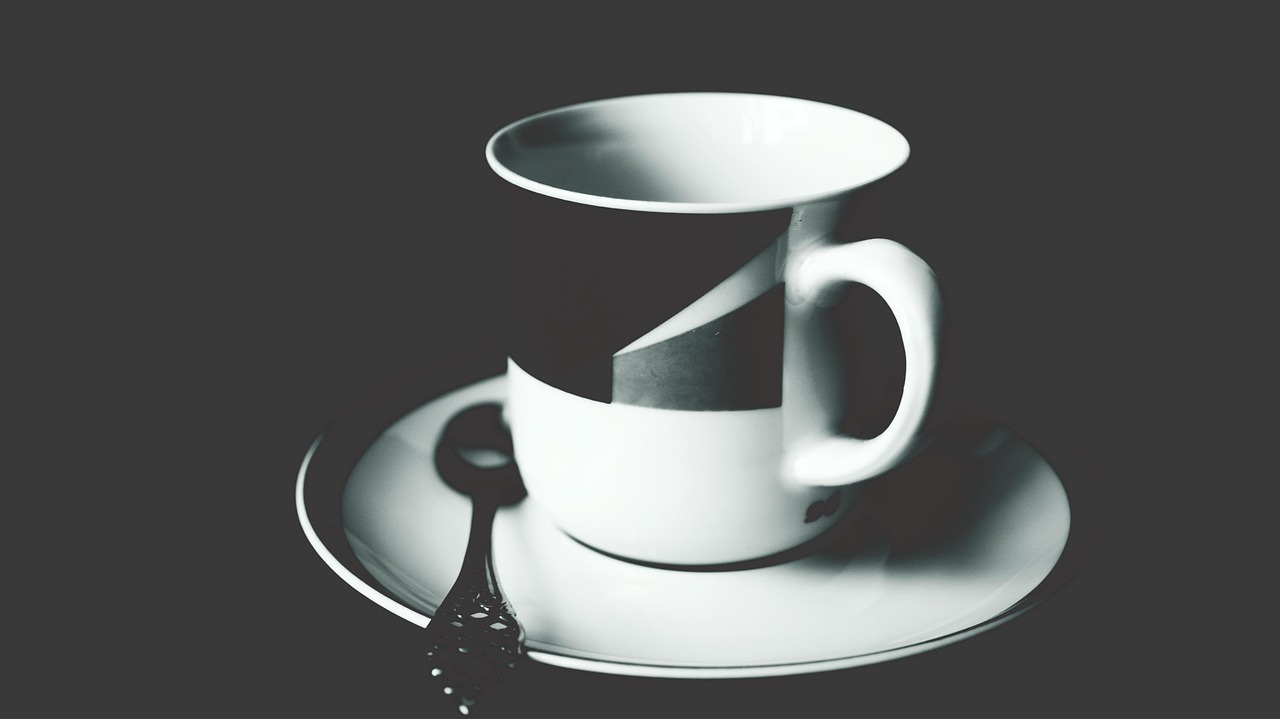mug: (434, 70, 1000, 569)
